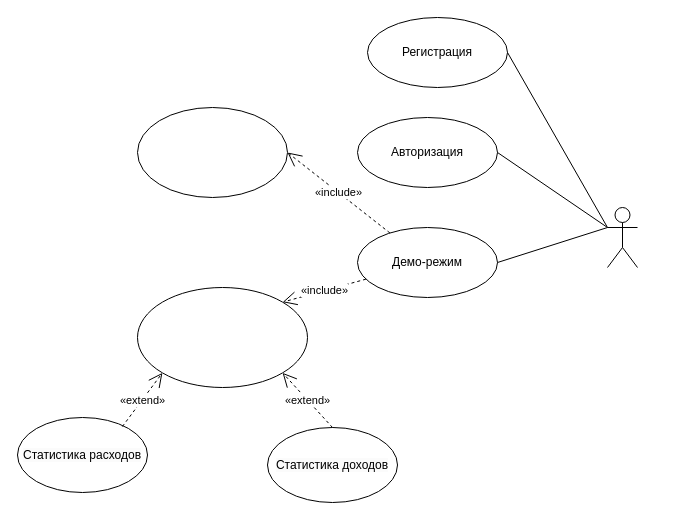
This 695x520 diagram has some shape labels left out. The shapes that lost their labels are listed below. From the top down, each one's centre as x and y in pixels, then its label:
At point 212,152: "Возможность просмотра уведомлений".
At point 622,237: "Неавторизованный пользователь".
At point 222,337: "Возможность просмотра статистики".
